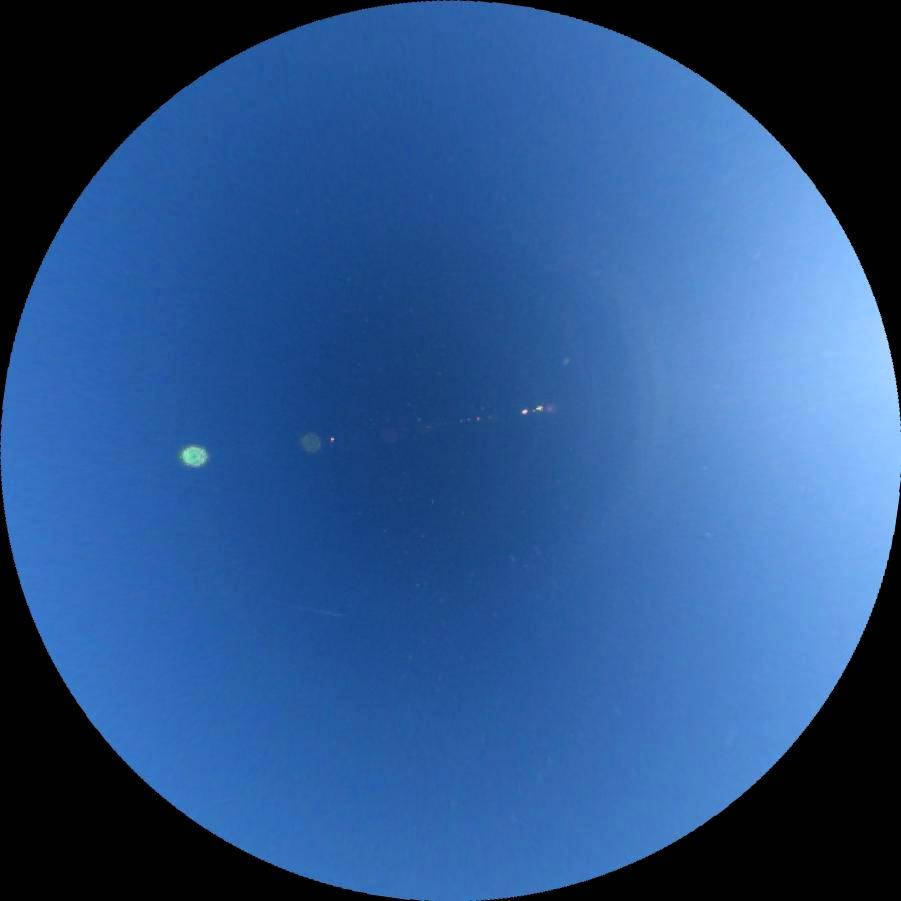contrail young: (245, 596, 346, 621)
